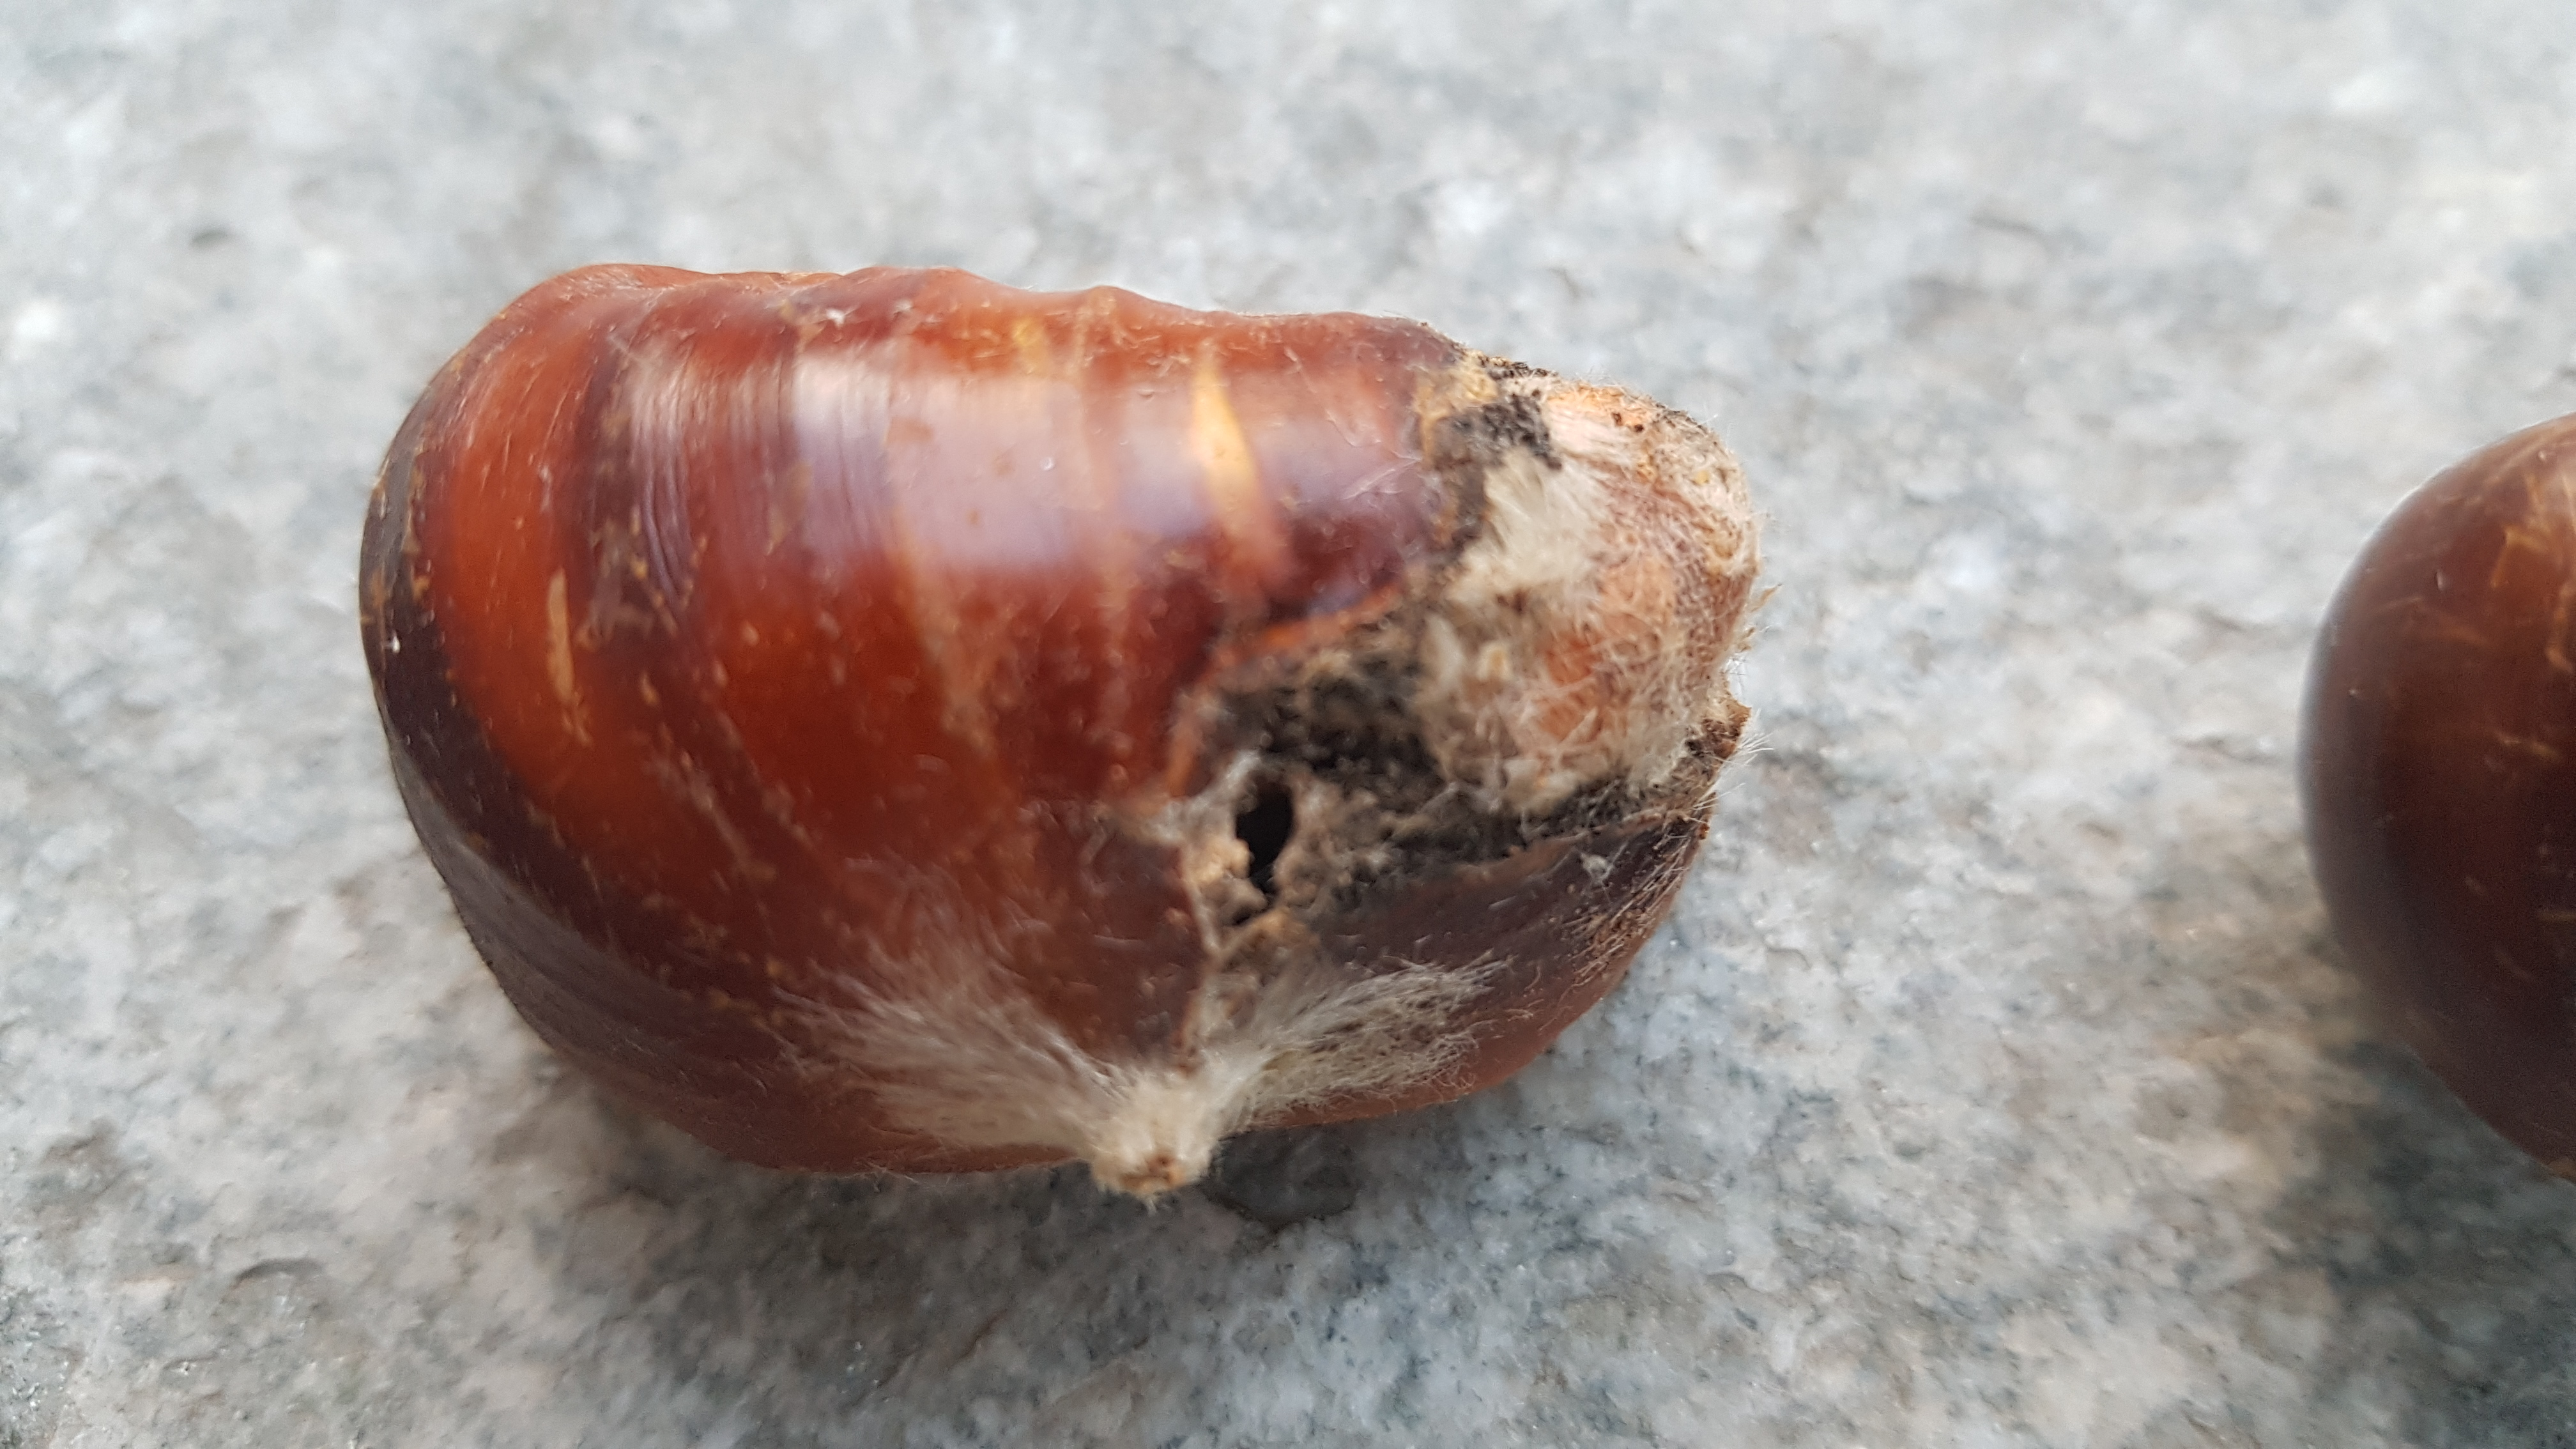camola: (1154, 363, 1750, 1044)
